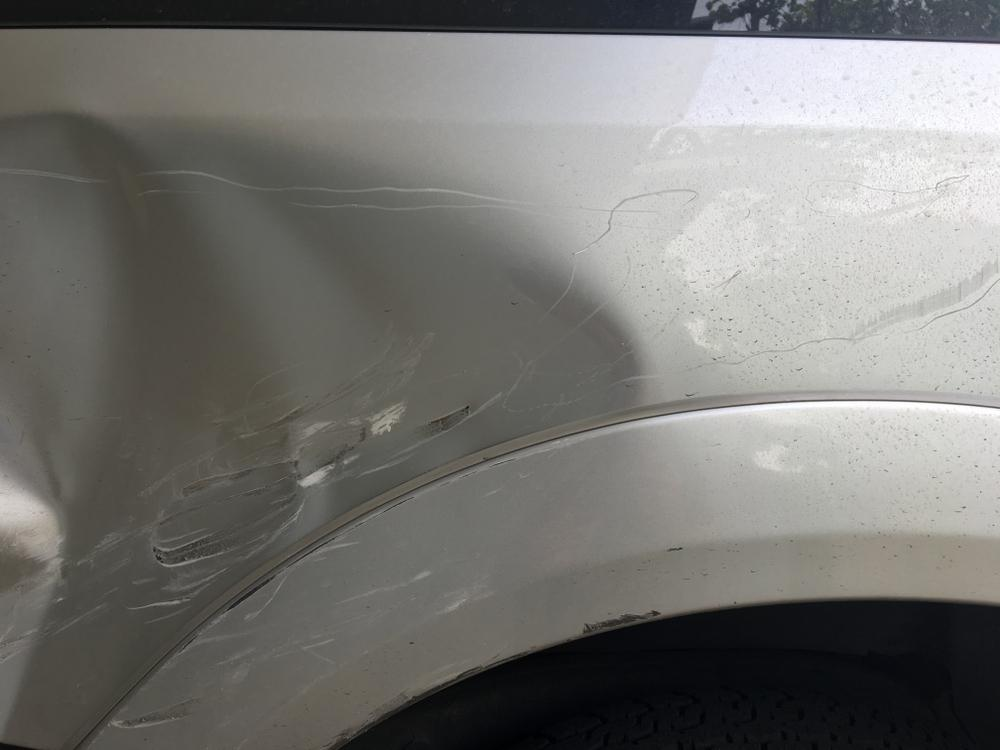dent: (0, 118, 640, 748)
scratch: (97, 448, 665, 750), (671, 245, 1000, 373)
